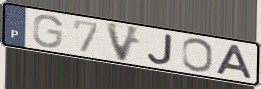7: (71, 18, 100, 55)
A: (214, 43, 255, 81)
G: (31, 13, 64, 49)
J: (146, 33, 175, 66)
O: (181, 37, 215, 74)
V: (103, 20, 144, 64)
